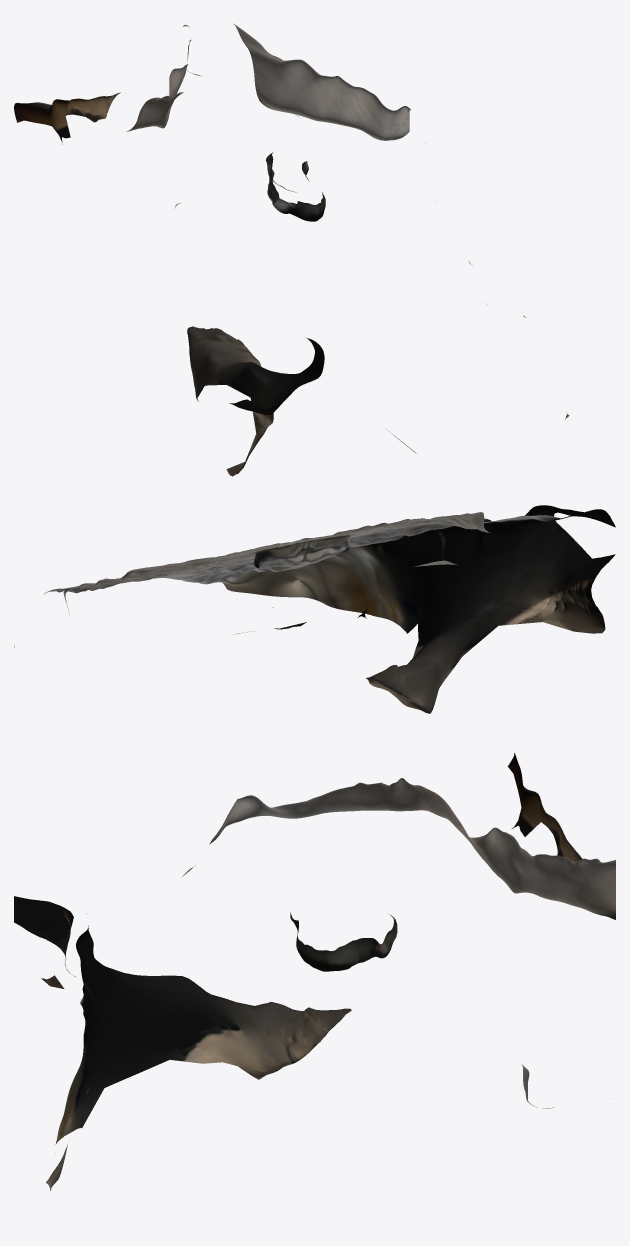
The picture shows the model from 3 angles, top to bottom: view 1: azimuth 30°, elevation 25°; view 2: azimuth 150°, elevation 25°; view 3: azimuth 270°, elevation 25°; orthographic projection. The views are drawn at different scales.
Bounding box in the file's own units: 1.58 × 0.9822 × 1.89.
1 material, 1 textured.
